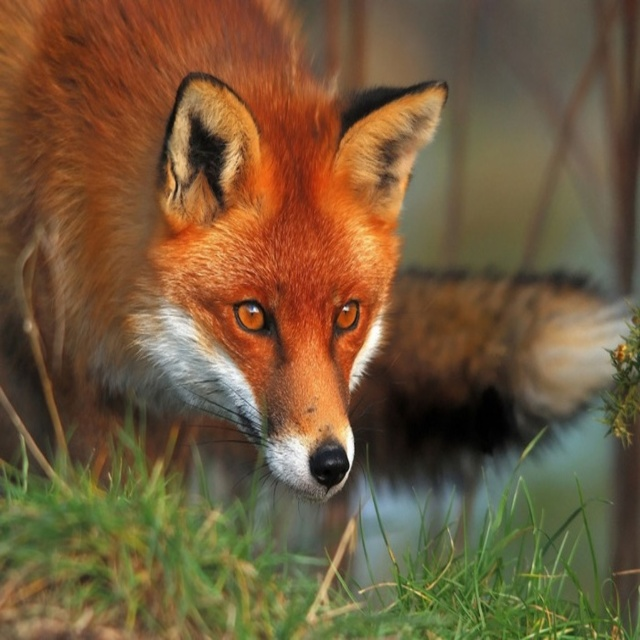Fox: (0, 0, 639, 501)
